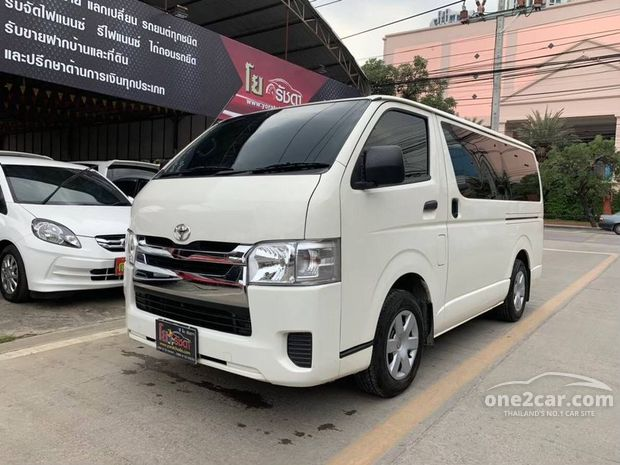van: (120, 94, 544, 397)
